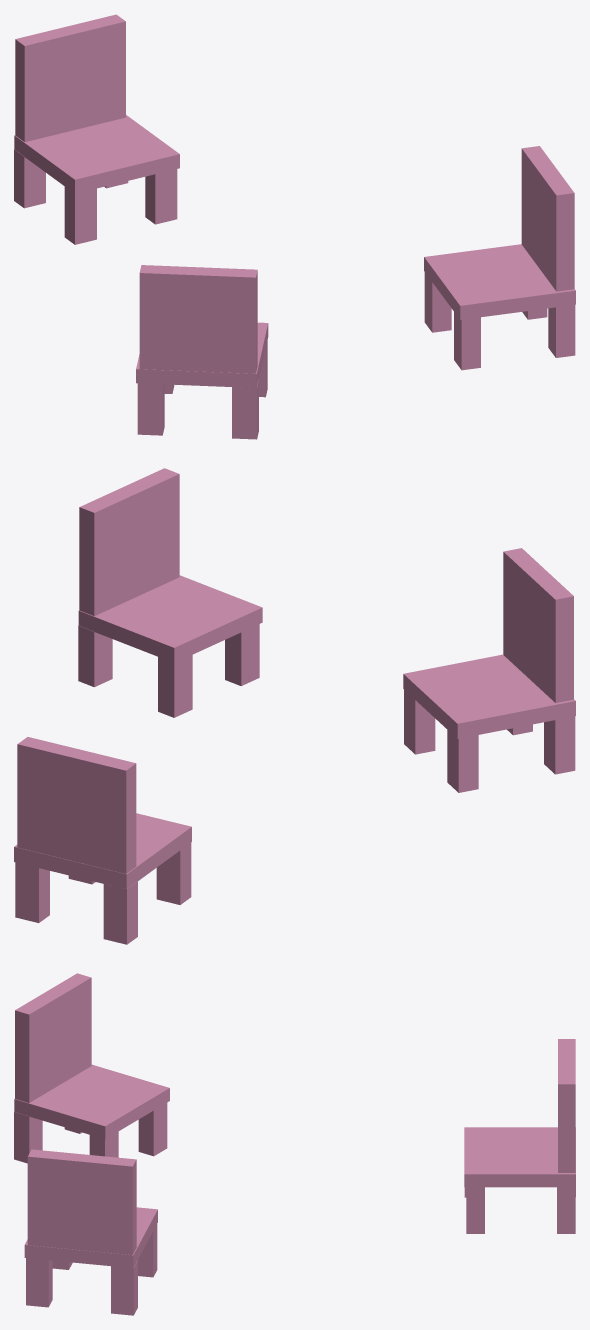
The model's file is Silla.obj.
3 views of the same model, one above another, from view 1: azimuth 30°, elevation 25°; view 2: azimuth 150°, elevation 25°; view 3: azimuth 270°, elevation 25° (orthographic). The views are drawn at different scales.
Parts seen in each view (by area): view 1: Silla:pCube4, Silla1:pCube4 group77, Silla2:pCube4 pasted__group77 group78; view 2: Silla2:pCube4 pasted__group77 group78, Silla:pCube4, Silla1:pCube4 group77; view 3: Silla1:pCube4 group77, Silla2:pCube4 pasted__group77 group78, Silla:pCube4.
Part boxes in pixels (left/top/right/bottom): Silla:pCube4: left=14, top=14, right=179, bottom=244; Silla1:pCube4 group77: left=136, top=265, right=268, bottom=439; Silla2:pCube4 pasted__group77 group78: left=424, top=146, right=575, bottom=370; Silla2:pCube4 pasted__group77 group78: left=78, top=468, right=262, bottom=717; Silla:pCube4: left=14, top=737, right=191, bottom=944; Silla1:pCube4 group77: left=403, top=548, right=575, bottom=792; Silla1:pCube4 group77: left=14, top=973, right=169, bottom=1163; Silla2:pCube4 pasted__group77 group78: left=24, top=1149, right=157, bottom=1315; Silla:pCube4: left=464, top=1039, right=575, bottom=1233.
Size of the model in its own units: 1.15 by 0.4103 by 1.4.
Materials: 3 (3 with a texture image).
